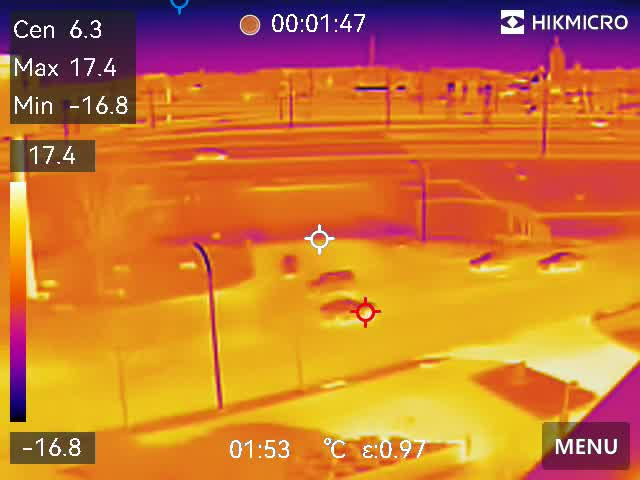smallCar: (533, 249, 583, 271)
vehicle: (316, 297, 376, 322), (304, 270, 363, 294), (273, 244, 301, 283), (466, 247, 507, 271), (189, 145, 233, 163)
